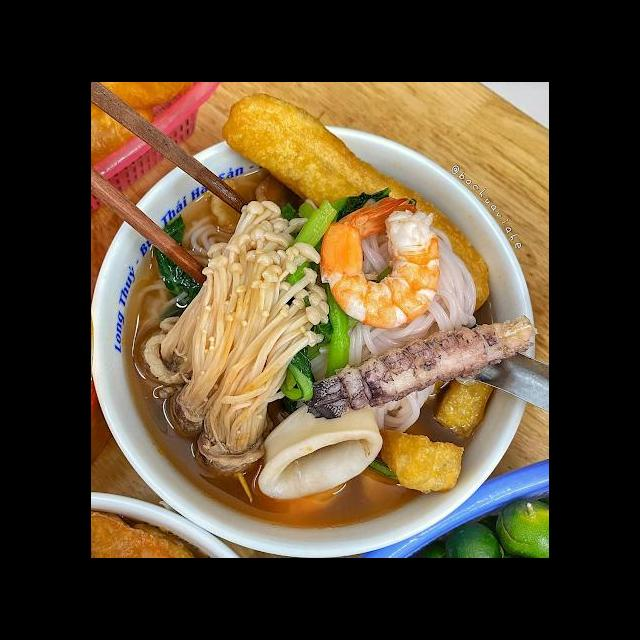bun: (343, 224, 483, 372), (367, 378, 438, 437), (128, 274, 191, 340), (175, 211, 234, 270)
bun hai san: (103, 119, 536, 558)
dau hu: (372, 423, 468, 499), (429, 369, 498, 440)
muc: (251, 393, 385, 502)
tom: (317, 193, 443, 332)
tom tit: (301, 312, 542, 423)
